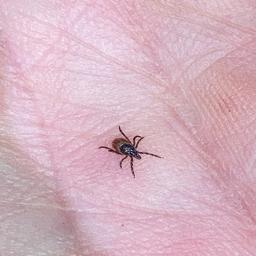Ixodes scapularis: (99, 125, 162, 178)
